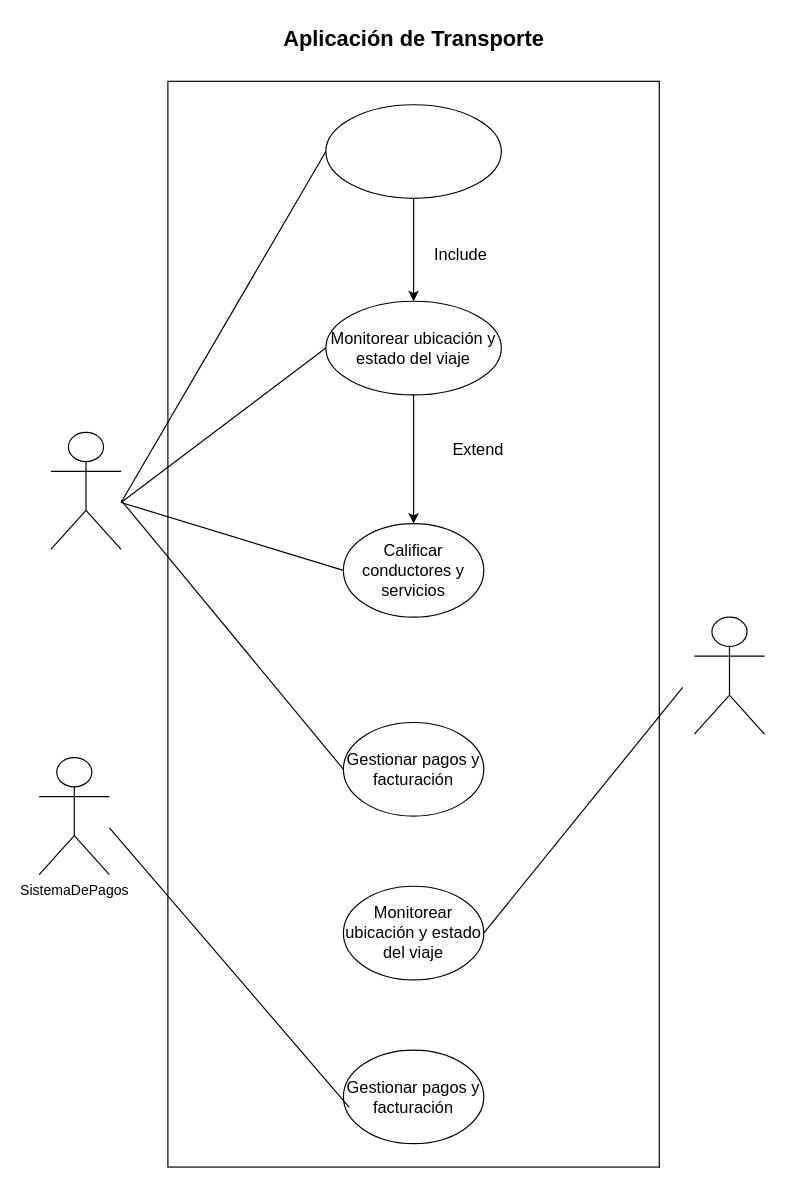
This 785x1188 diagram has some shape labels left out. The shapes that lost their labels are listed below. From the top down, each one's centre as x and y in pixels, then its label:
At (x=413, y=151): "Solicitar vehículos para transporte".
At (x=85, y=490): "Usuario".
At (x=729, y=675): "Conductor".
